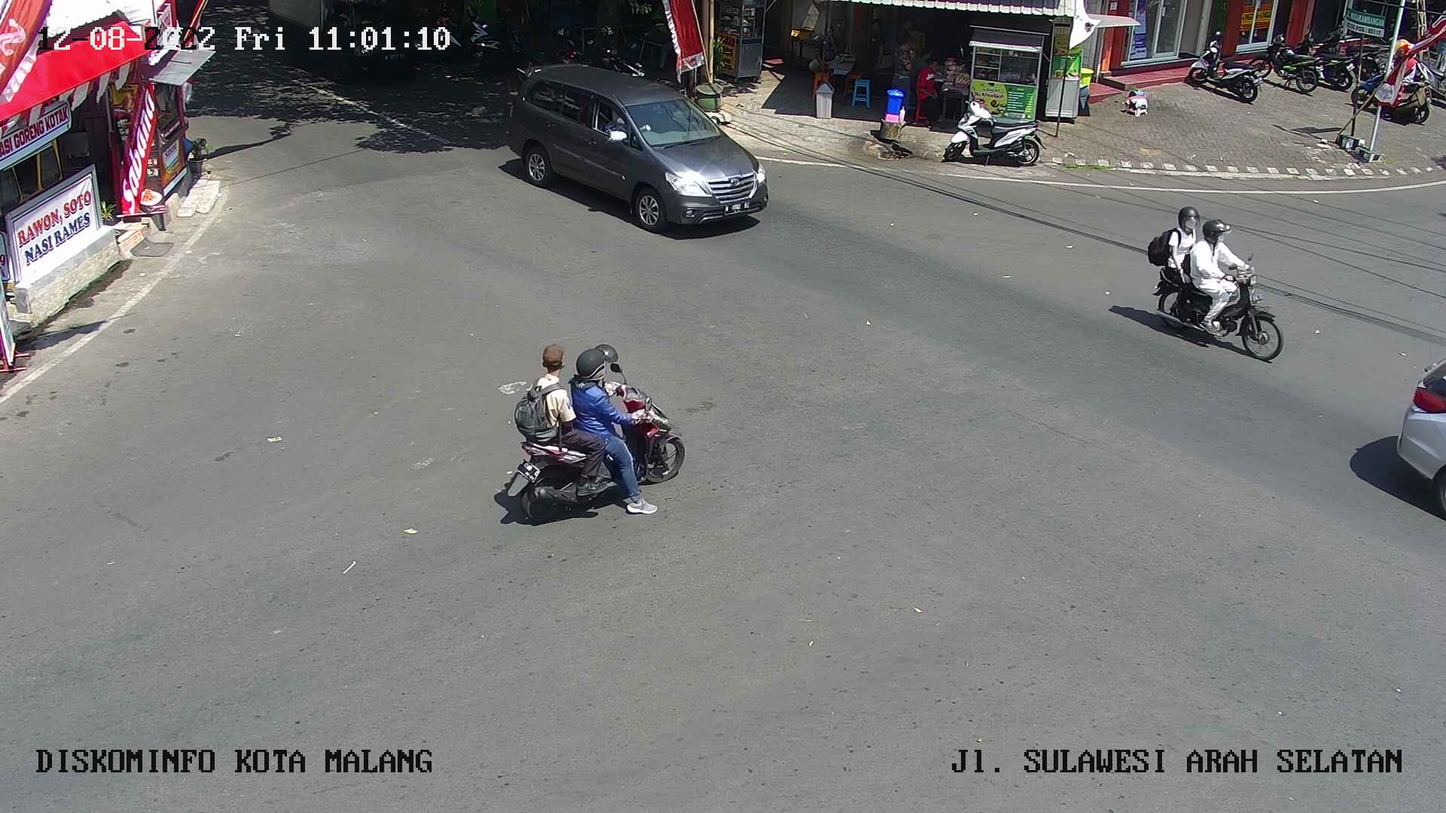with_helmet: (1142, 200, 1292, 365)
without_helmet: (481, 333, 689, 531)
